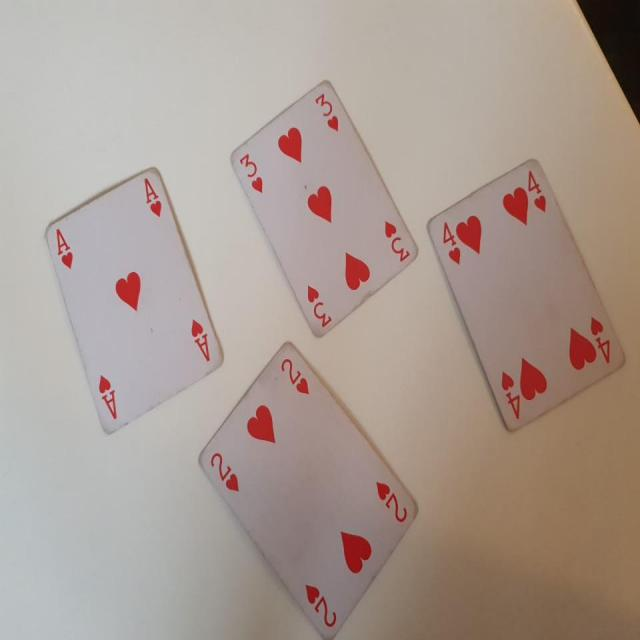2 Hearts: (195, 346, 426, 640)
3 Hearts: (230, 76, 419, 344)
4 Hearts: (427, 153, 630, 448)
A Hearts: (43, 157, 226, 442)
